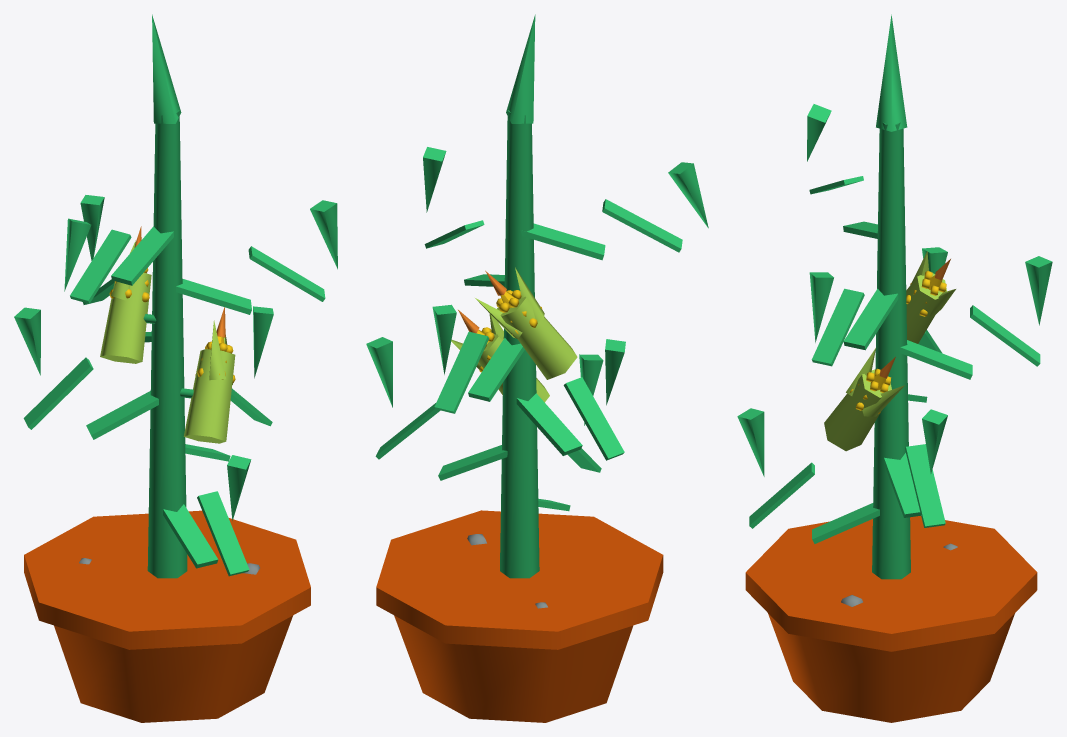
Rendered from corn.glb.
The picture shows the model from 3 angles, left to right: view 1: azimuth 30°, elevation 25°; view 2: azimuth 150°, elevation 25°; view 3: azimuth 270°, elevation 25°; orthographic projection.
Parts seen in each view (by area): view 1: rim, pot, stalk, ear_husk (×2), leaf_seg_2 (×4), leaf_seg_3 (×6), leaf_seg_1 (×4), top_leaf, husk_r; view 2: rim, pot, stalk, leaf_seg_2 (×4), leaf_seg_1 (×4), leaf_seg_3 (×6), ear_husk (×2), top_leaf; view 3: rim, pot, stalk, leaf_seg_2 (×4), leaf_seg_1 (×4), leaf_seg_3 (×5), ear_husk (×2), top_leaf.
Boxes of the visible parts, x1,y1,x2,y2 form: rim: (24, 510, 310, 649); pot: (54, 615, 292, 722); stalk: (147, 110, 187, 578); ear_husk (×2): (100, 272, 235, 443); leaf_seg_2 (×4): (23, 229, 325, 576); leaf_seg_3 (×6): (14, 195, 337, 520); leaf_seg_1 (×4): (86, 226, 251, 568); top_leaf: (152, 14, 181, 123); husk_r: (209, 320, 225, 380); rim: (376, 510, 663, 649); pot: (394, 615, 632, 722); stalk: (500, 110, 539, 578); leaf_seg_2 (×4): (375, 199, 682, 460); leaf_seg_1 (×4): (438, 223, 605, 480); leaf_seg_3 (×6): (366, 147, 708, 425); ear_husk (×2): (479, 296, 577, 402); top_leaf: (506, 14, 535, 123); rim: (745, 516, 1037, 651); pot: (768, 613, 1014, 722); stalk: (872, 122, 910, 579); leaf_seg_2 (×4): (749, 288, 1040, 528); leaf_seg_1 (×4): (812, 288, 972, 543); leaf_seg_3 (×5): (737, 104, 1052, 476); ear_husk (×2): (824, 273, 946, 451); top_leaf: (876, 14, 907, 131).
Size of the model in its own units: 0.7992 by 1.85 by 0.7999.
